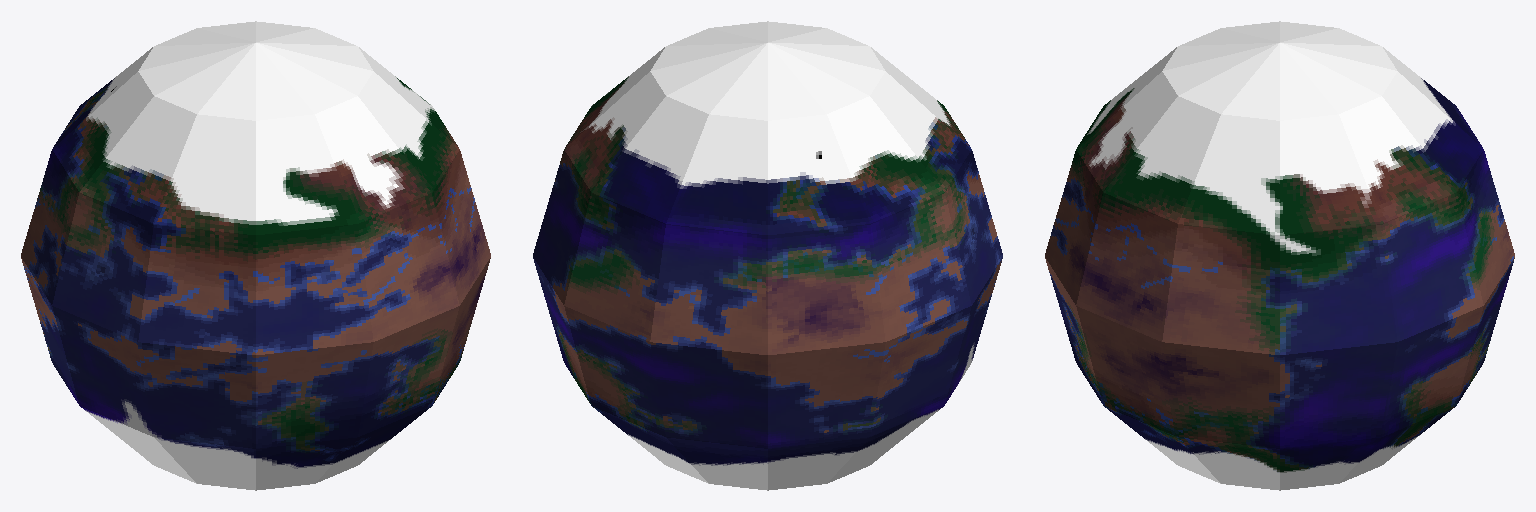
The picture shows the model from 3 angles: view 1: azimuth 30°, elevation 25°; view 2: azimuth 150°, elevation 25°; view 3: azimuth 270°, elevation 25°; orthographic projection.
Visible parts, largest first — view 1: Sphere002; view 2: Sphere002; view 3: Sphere002.
Part boxes in pixels (bbox=[...]): Sphere002: bbox=[21, 21, 490, 490]; Sphere002: bbox=[533, 21, 1002, 490]; Sphere002: bbox=[1045, 21, 1514, 490].
Size of the model in its own units: 20 by 20 by 20.
Materials: 1 (1 with a texture image).